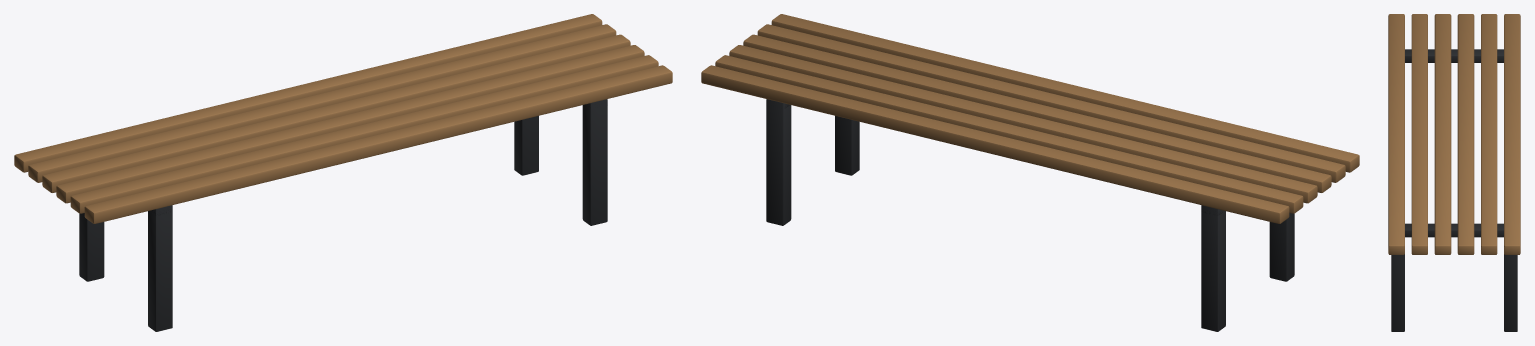
The model's file is vantage_bench.glb.
3 views of the same model, side by side, from view 1: azimuth 30°, elevation 25°; view 2: azimuth 150°, elevation 25°; view 3: azimuth 270°, elevation 25° (orthographic). The views are drawn at different scales.
Visible parts, largest first — view 1: vantage_bench; view 2: vantage_bench; view 3: vantage_bench.
Boxes of the visible parts, <box> form: vantage_bench: <box>14,14,672,331</box>; vantage_bench: <box>701,14,1359,331</box>; vantage_bench: <box>1388,14,1520,331</box>.
Size of the model in its own units: 2 by 0.45 by 0.48.
